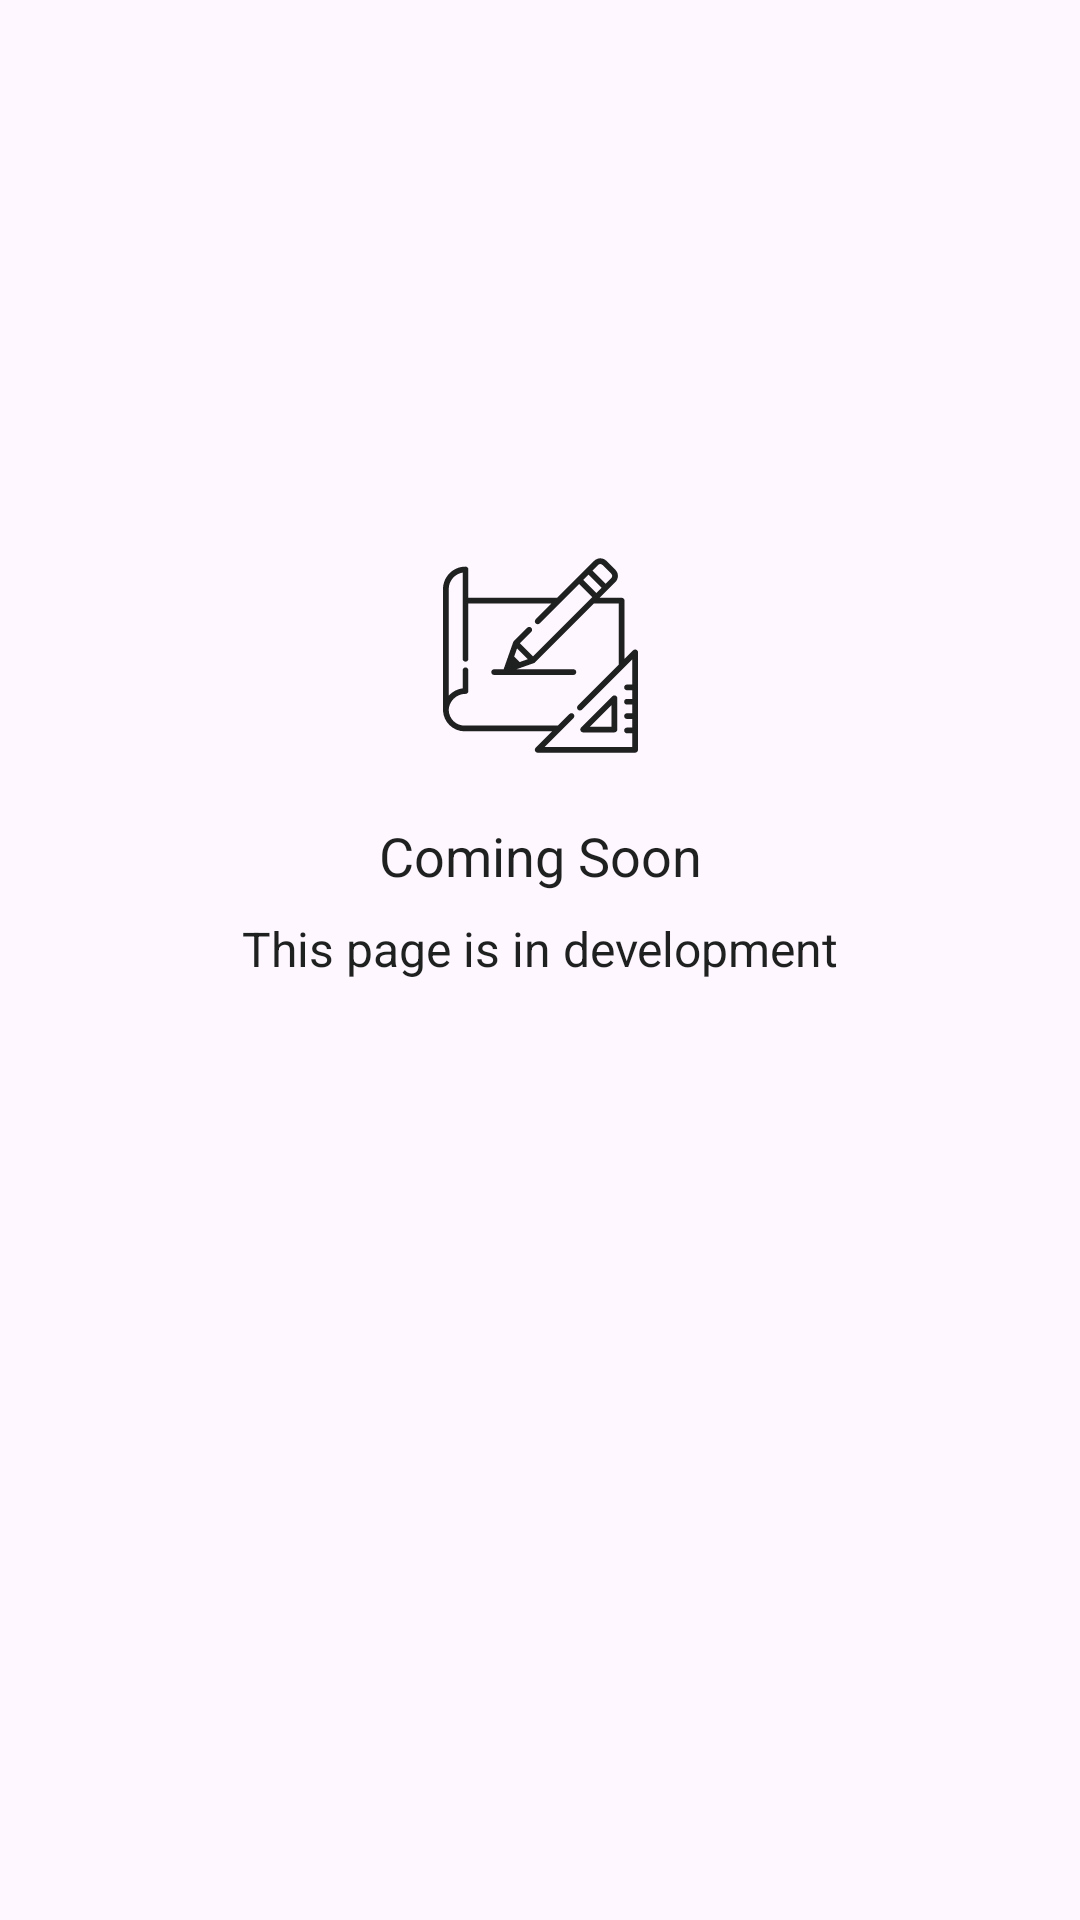

Icons on this 1080px×1920px Android screen, each with its box as (x1, y1, x2, y2):
sketch: (443, 558, 638, 753)
